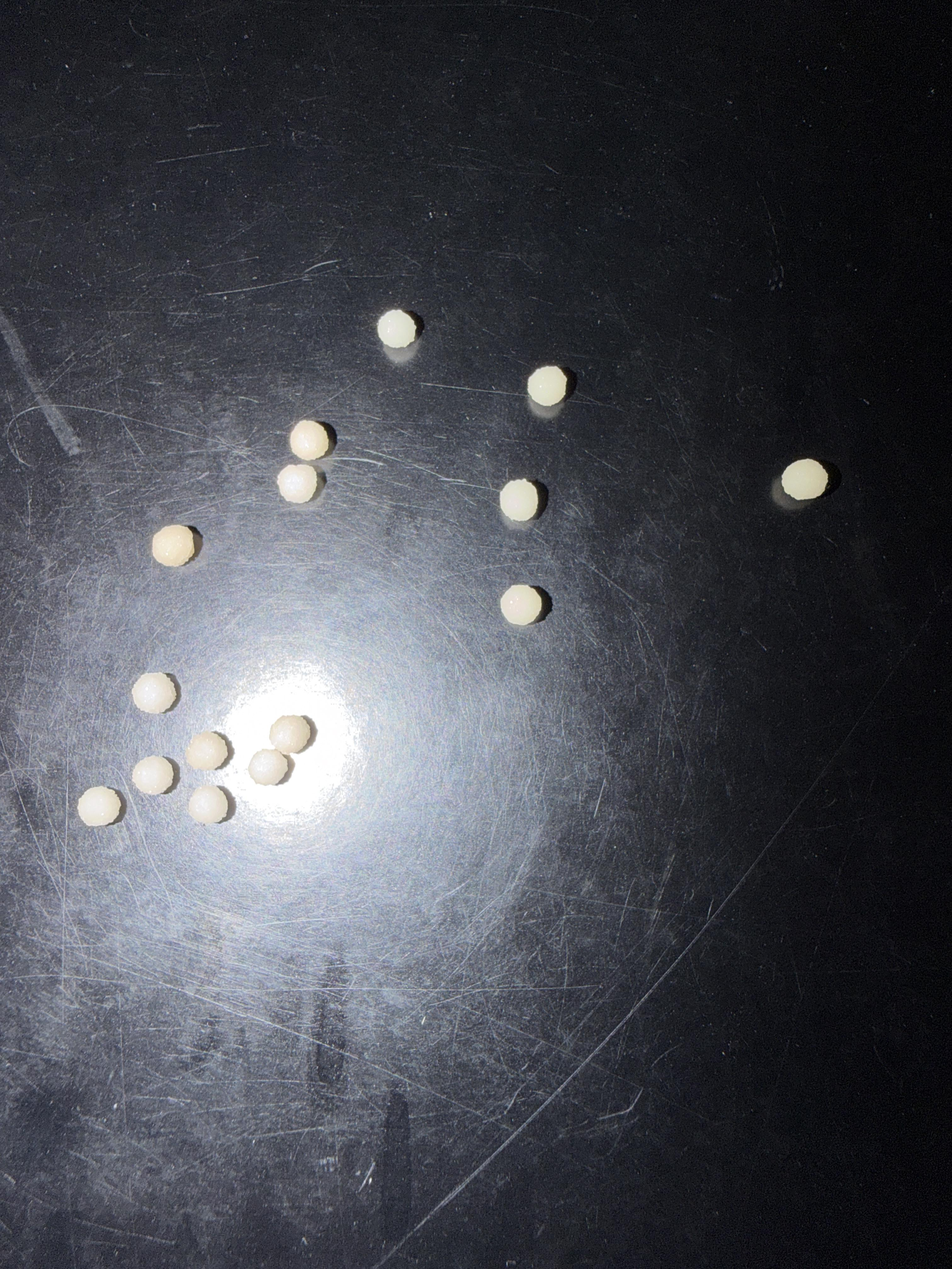pill: (781, 458, 828, 500), (132, 672, 177, 714), (152, 525, 195, 566), (77, 786, 121, 826), (500, 584, 542, 625), (289, 419, 330, 460), (499, 479, 539, 521), (132, 755, 174, 795), (185, 731, 228, 770), (527, 366, 568, 406), (377, 309, 417, 349), (277, 464, 318, 503), (188, 785, 228, 824), (269, 716, 310, 754), (248, 749, 288, 785)
